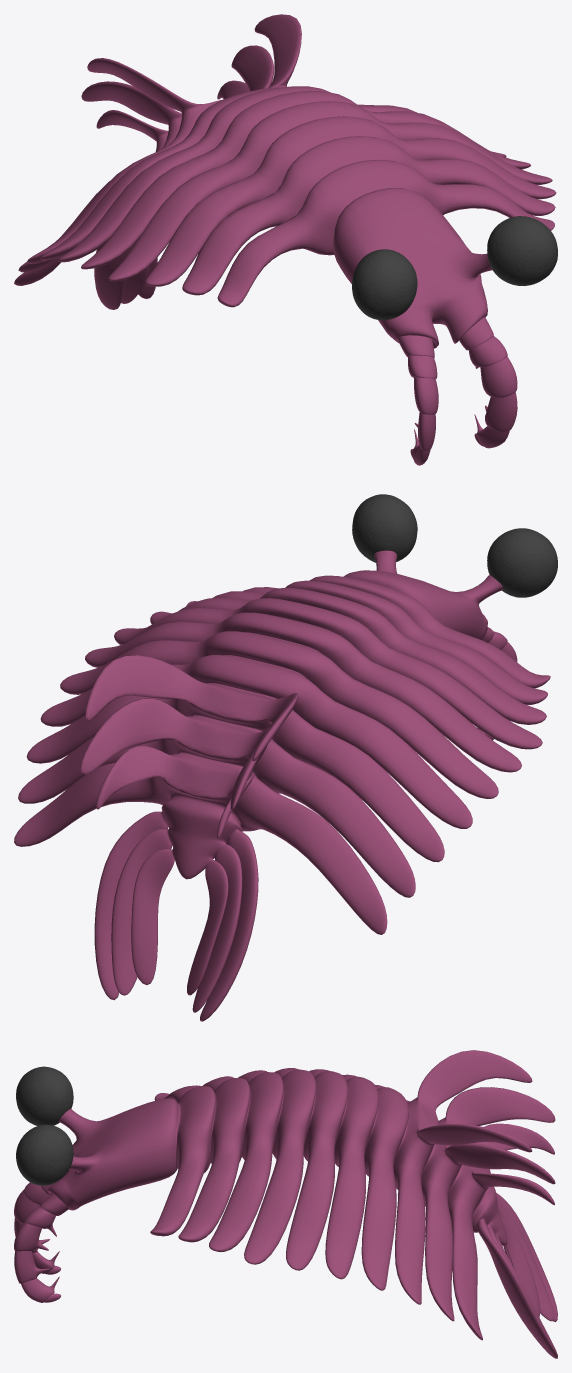
Rendered from anomalocaris2.glb.
3 renders of one model, top to bottom at view 1: azimuth 30°, elevation 25°; view 2: azimuth 150°, elevation 25°; view 3: azimuth 270°, elevation 25°, orthographic. The views are drawn at different scales.
Parts seen in each view (by area): view 1: Cube_1; view 2: Cube_1; view 3: Cube_1.
Part boxes in pixels (left/top/right/bottom): Cube_1: left=14, top=14, right=557, bottom=465; Cube_1: left=14, top=494, right=557, bottom=1021; Cube_1: left=14, top=1050, right=557, bottom=1358.
Bounding box in the file's own units: 0.0964 × 0.0621 × 0.1189.
